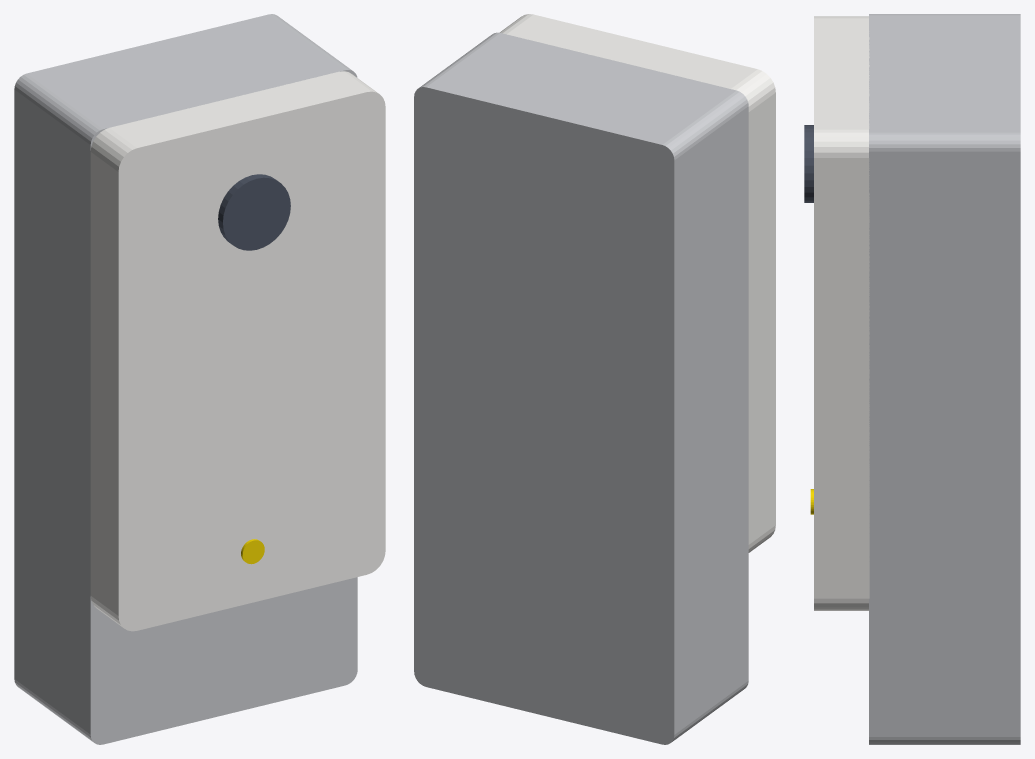
The model's file is device.canary-vision.glb.
3 views of the same model, side by side, from view 1: azimuth 30°, elevation 25°; view 2: azimuth 150°, elevation 25°; view 3: azimuth 270°, elevation 25° (orthographic). The views are drawn at different scales.
Size of the model in its own units: 0.0432 by 0.0951 by 0.0305.
